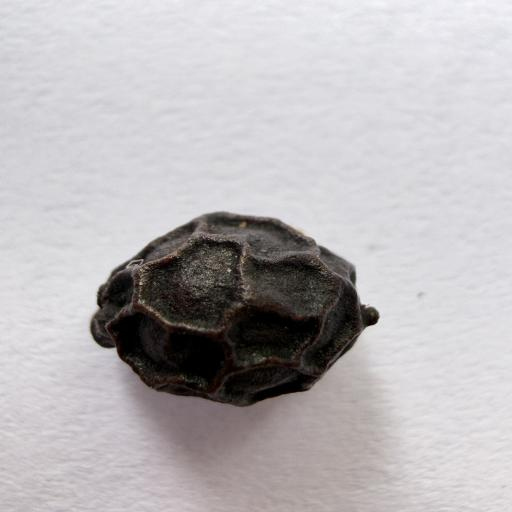Black_pepper: (64, 202, 408, 410)
